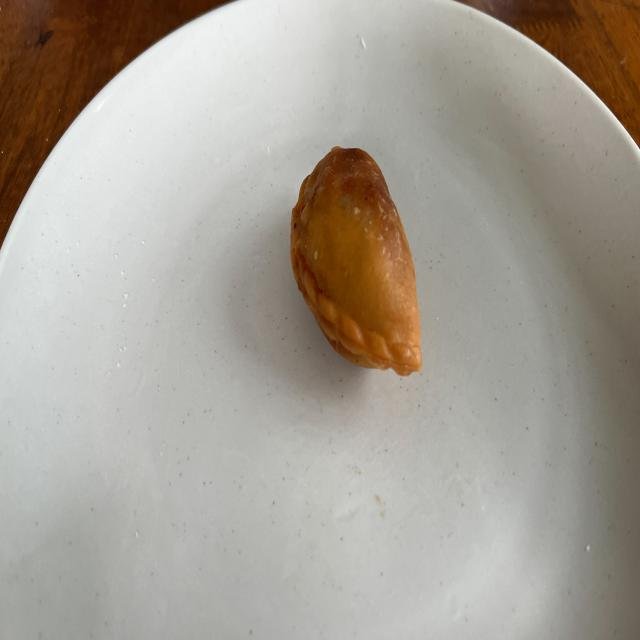karipap: (291, 147, 421, 376)
